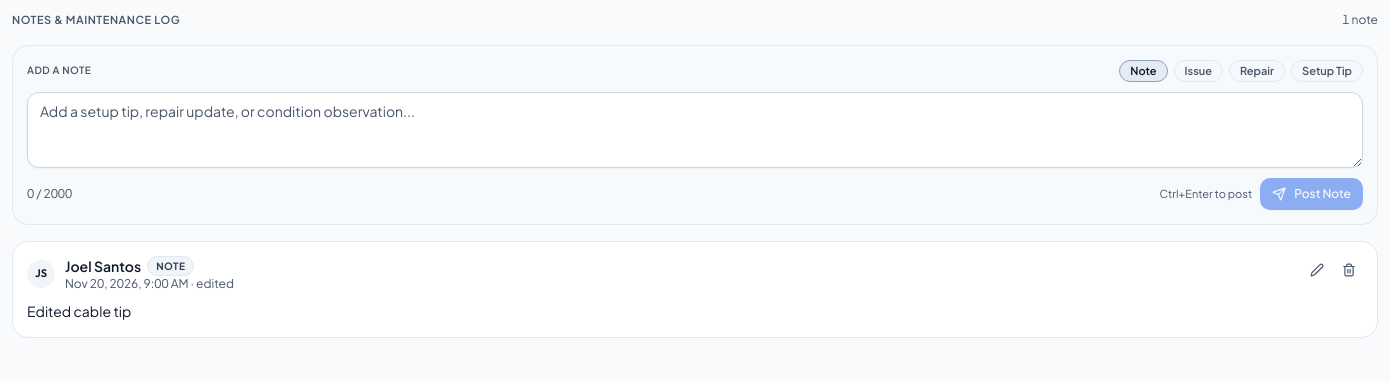
Test case: ItemCommentsSection › supports Cmd+Enter submit, Escape cancel edit, edited indicator, error retention, and resets state on itemId change
Later steps or results of the test are not shown.
Expected: the text "Nov 20, 2026, 9:00 AM · edited" is shown, [65, 276, 234, 292]
Type "Draft note to preserve" into the text box labelled "Add a Note".
click(695, 130); type("Draft note to preserve")  # box [27, 92, 1363, 168]
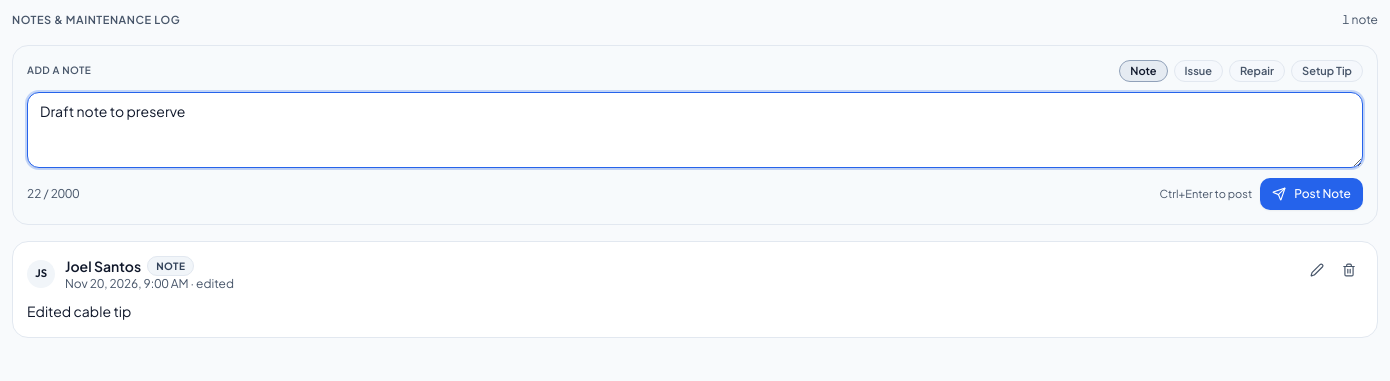
Type keys "{Meta>}{Enter}{/Meta}"
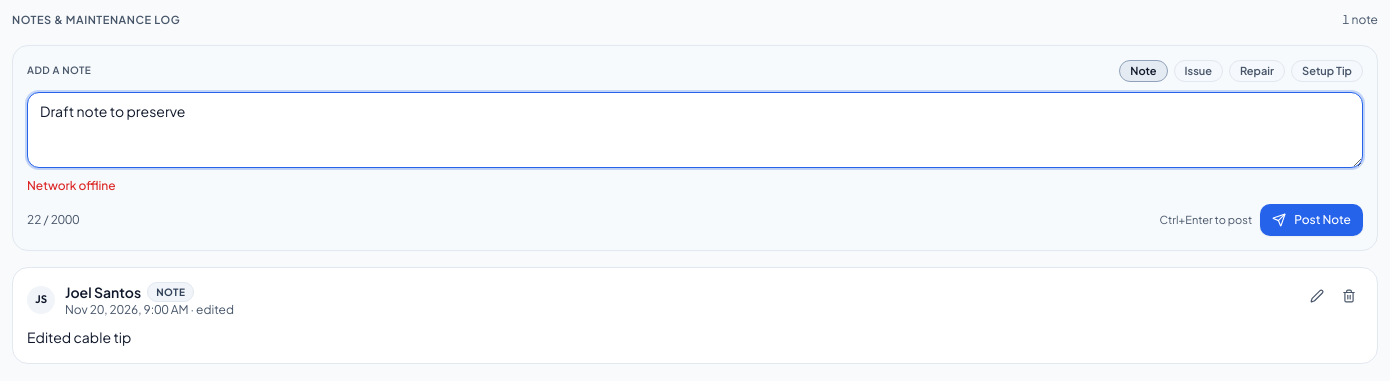
Expected: the message reads "Network offline", [27, 178, 116, 193]
